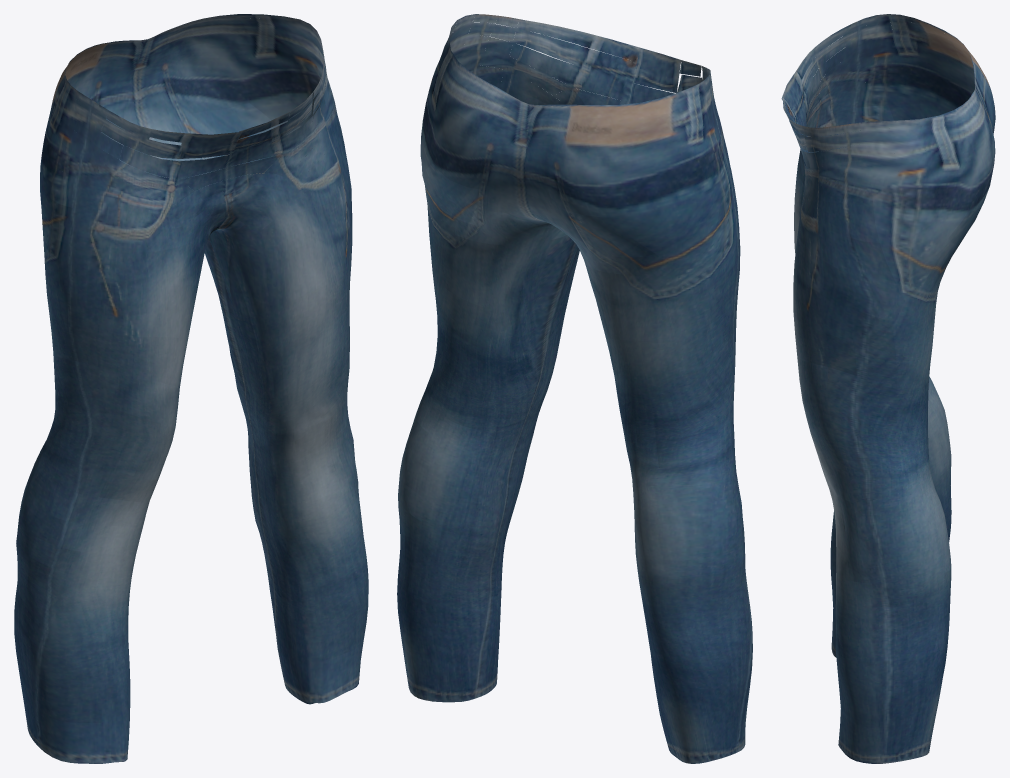
File: ONFIT_Pants_Female_v4.glb
3 views of the same model, side by side, from view 1: azimuth 30°, elevation 25°; view 2: azimuth 150°, elevation 25°; view 3: azimuth 270°, elevation 25° (orthographic). The views are drawn at different scales.
Parts seen in each view (by area): view 1: ONFIT_Pants; view 2: ONFIT_Pants; view 3: ONFIT_Pants.
Boxes of the visible parts, <box> form: ONFIT_Pants: <box>14,14,368,763</box>; ONFIT_Pants: <box>397,14,752,763</box>; ONFIT_Pants: <box>781,14,995,763</box>.
Size of the model in its own units: 0.4429 by 0.8543 by 0.2599.
1 material, 1 textured.
